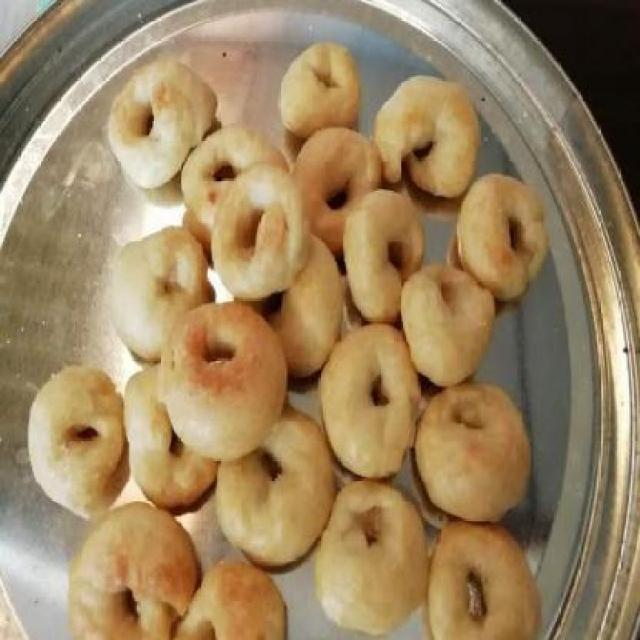Taralli: (32, 48, 543, 634)
